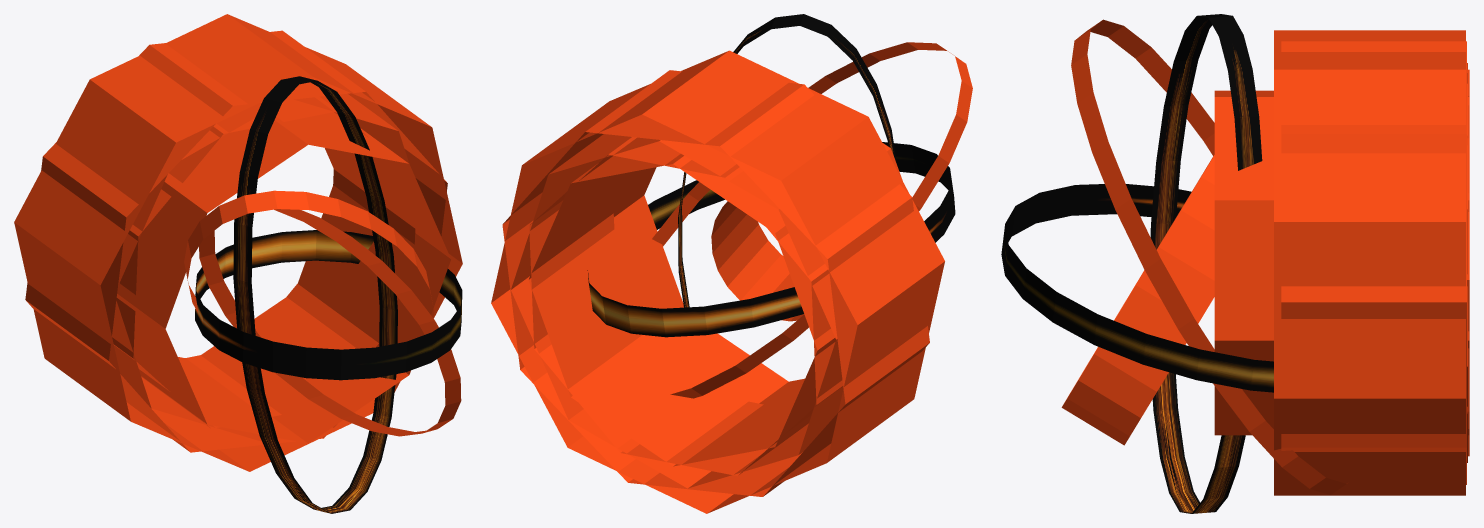
Rendered from tx_xpjihuo_huohong_keep.obj.
3 views of the same model, side by side, from view 1: azimuth 30°, elevation 25°; view 2: azimuth 150°, elevation 25°; view 3: azimuth 270°, elevation 25° (orthographic). The views are drawn at different scales.
Visible parts, largest first — view 1: Cylinder09, Cylinder05, Cylinder08, Cylinder03, Cylinder02, Cylinder06, Cylinder04, Cylinder07, Cylinder10; view 2: Cylinder09, Cylinder05, Cylinder08, Cylinder07, Cylinder06, Cylinder02, Cylinder10, Cylinder04, Cylinder03; view 3: Cylinder09, Cylinder08, Cylinder05, Cylinder03, Cylinder04, Cylinder02, Cylinder10, Cylinder06.
Part boxes in pixels (x1,y1,x2,y2): Cylinder09: (14, 14, 462, 471); Cylinder05: (116, 112, 450, 443); Cylinder08: (25, 30, 447, 452); Cylinder03: (233, 76, 397, 513); Cylinder02: (195, 230, 462, 380); Cylinder06: (112, 96, 417, 428); Cylinder04: (199, 209, 461, 436); Cylinder07: (112, 93, 409, 441); Cylinder10: (184, 190, 434, 334); Cylinder09: (491, 50, 944, 513); Cylinder05: (528, 143, 902, 466); Cylinder08: (502, 70, 929, 496); Cylinder07: (511, 134, 843, 488); Cylinder06: (529, 137, 842, 475); Cylinder02: (587, 142, 955, 337); Cylinder10: (652, 42, 972, 398); Cylinder04: (711, 201, 804, 321); Cylinder03: (678, 14, 896, 307); Cylinder09: (1274, 30, 1465, 495); Cylinder08: (1281, 41, 1466, 484); Cylinder05: (1214, 90, 1469, 435); Cylinder03: (1150, 14, 1262, 513); Cylinder04: (1061, 154, 1214, 445); Cylinder02: (1001, 184, 1273, 392); Cylinder10: (1071, 19, 1347, 494); Cylinder06: (1467, 69, 1469, 456).
Bounding box in the file's own units: 76.4 × 86.18 × 76.89.
3 materials, 3 textured.
